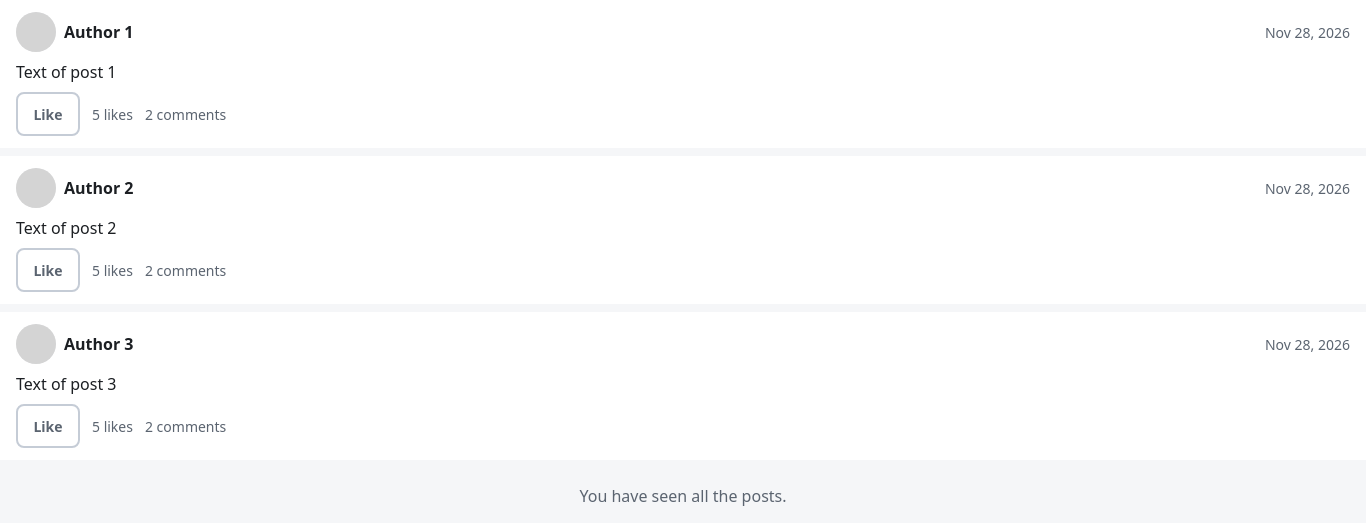
Test: Feed: the like button › draws only the liked post again, not the other posts
Click the button "Like" below "Text of post 1" at (48, 114), box left=16, top=92, right=80, bottom=136
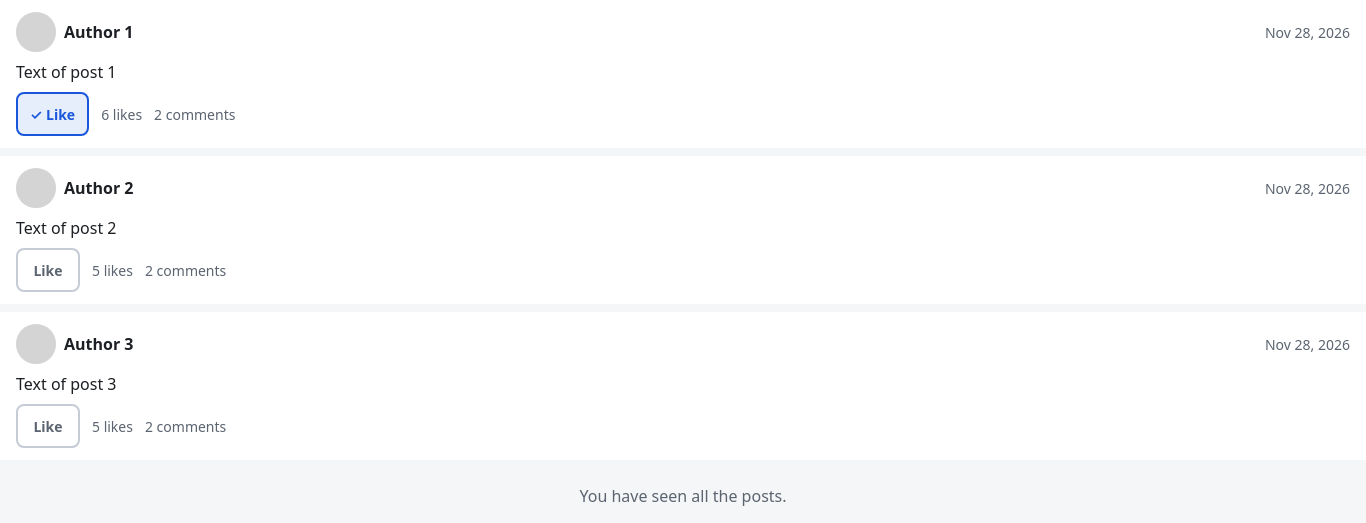
Check: the button "Like" next to "6 likes" is pressed, box left=16, top=92, right=89, bottom=136
